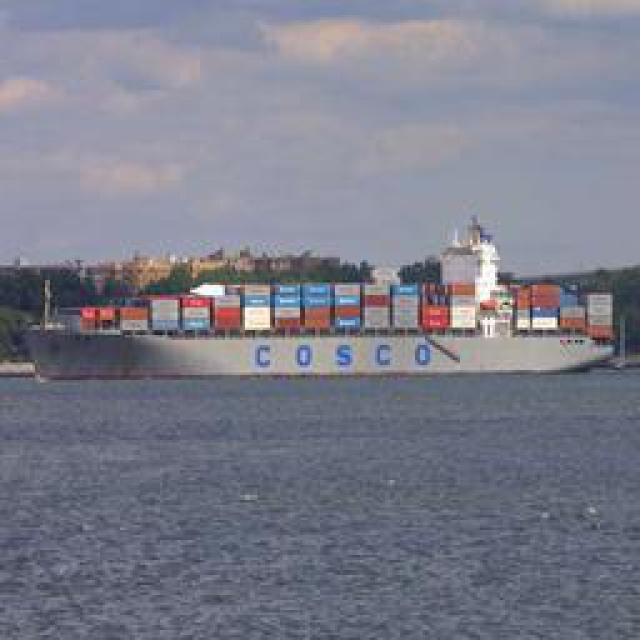Ship: (30, 295, 618, 383)
